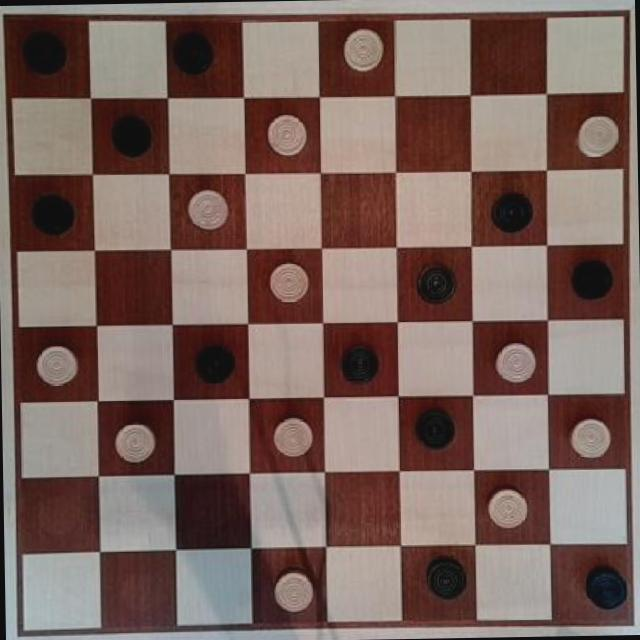BOARD: (2, 5, 632, 638)
black: (561, 248, 619, 306), (413, 554, 473, 610), (572, 561, 632, 617), (482, 178, 538, 238), (24, 182, 77, 240), (412, 402, 468, 456), (20, 23, 74, 78), (334, 333, 388, 388), (408, 254, 462, 308), (100, 110, 162, 157), (186, 334, 239, 388), (167, 28, 218, 76)
white: (560, 106, 626, 162), (562, 408, 620, 464), (259, 256, 315, 310), (180, 177, 232, 234), (256, 109, 312, 160), (105, 414, 159, 466), (266, 411, 320, 463), (487, 333, 538, 388), (28, 340, 80, 390), (338, 21, 387, 71), (482, 484, 533, 530), (270, 568, 316, 614)
